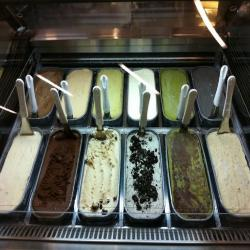icecream: (163, 126, 216, 227), (29, 127, 77, 219), (80, 129, 124, 226), (1, 129, 39, 214), (60, 68, 96, 124)
